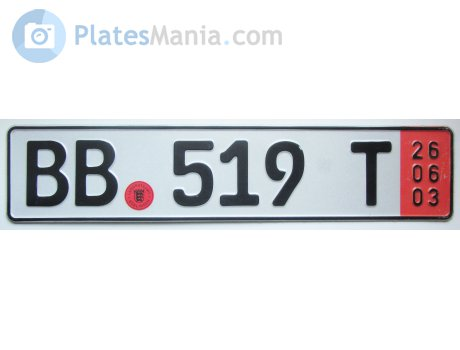License Plates: (21, 133, 393, 206)
